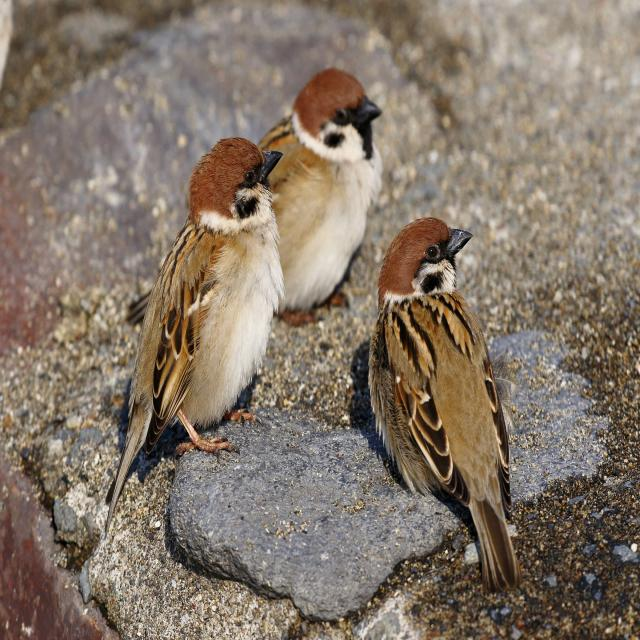Sparrow: (362, 213, 524, 579), (117, 130, 287, 477), (272, 59, 383, 323)
